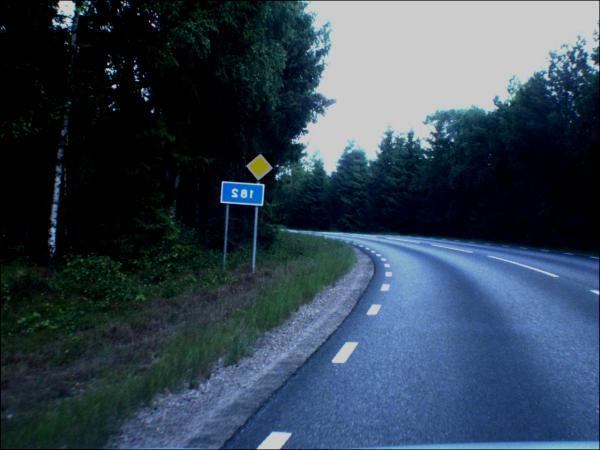PRIORITY_ROAD: (246, 154, 275, 183)
